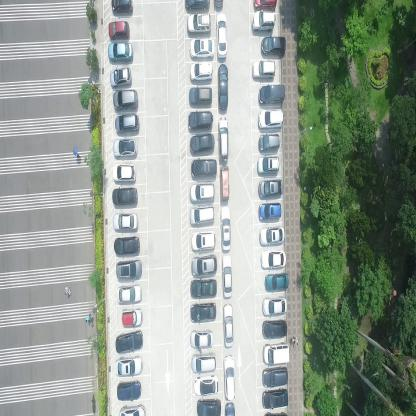car: (190, 252, 218, 276), (193, 373, 219, 398), (115, 330, 144, 352), (189, 204, 215, 228), (263, 341, 289, 365), (190, 276, 218, 298), (191, 229, 215, 254), (258, 84, 285, 106), (115, 354, 142, 376), (216, 11, 228, 59), (223, 352, 235, 400), (114, 112, 139, 135), (262, 387, 287, 410), (113, 89, 139, 111), (113, 212, 139, 234), (116, 260, 142, 282), (116, 284, 142, 306), (189, 182, 215, 204), (190, 300, 216, 322), (187, 13, 211, 36), (189, 37, 214, 59), (112, 162, 137, 184), (259, 224, 284, 246), (260, 249, 286, 270), (113, 236, 140, 256), (218, 62, 229, 110), (190, 133, 214, 155), (259, 108, 284, 129), (262, 366, 287, 387), (108, 42, 134, 62), (191, 158, 217, 178), (262, 36, 288, 56), (112, 187, 138, 207), (218, 114, 229, 161), (223, 301, 234, 348), (109, 66, 131, 89), (221, 252, 232, 298), (188, 62, 212, 83), (252, 11, 276, 32), (192, 351, 216, 372), (113, 138, 138, 158), (190, 328, 215, 348), (117, 380, 142, 400), (262, 296, 287, 316), (262, 319, 287, 339), (252, 59, 275, 80), (188, 86, 212, 106), (188, 112, 214, 130), (259, 201, 282, 221), (220, 205, 230, 250), (258, 178, 283, 196), (122, 306, 143, 327), (259, 132, 281, 152), (264, 273, 288, 291), (197, 397, 221, 415), (107, 21, 130, 39), (258, 156, 280, 173), (220, 165, 230, 202), (111, 0, 134, 15), (119, 403, 146, 415), (185, 0, 211, 11), (253, 0, 276, 12), (214, 0, 225, 9)
